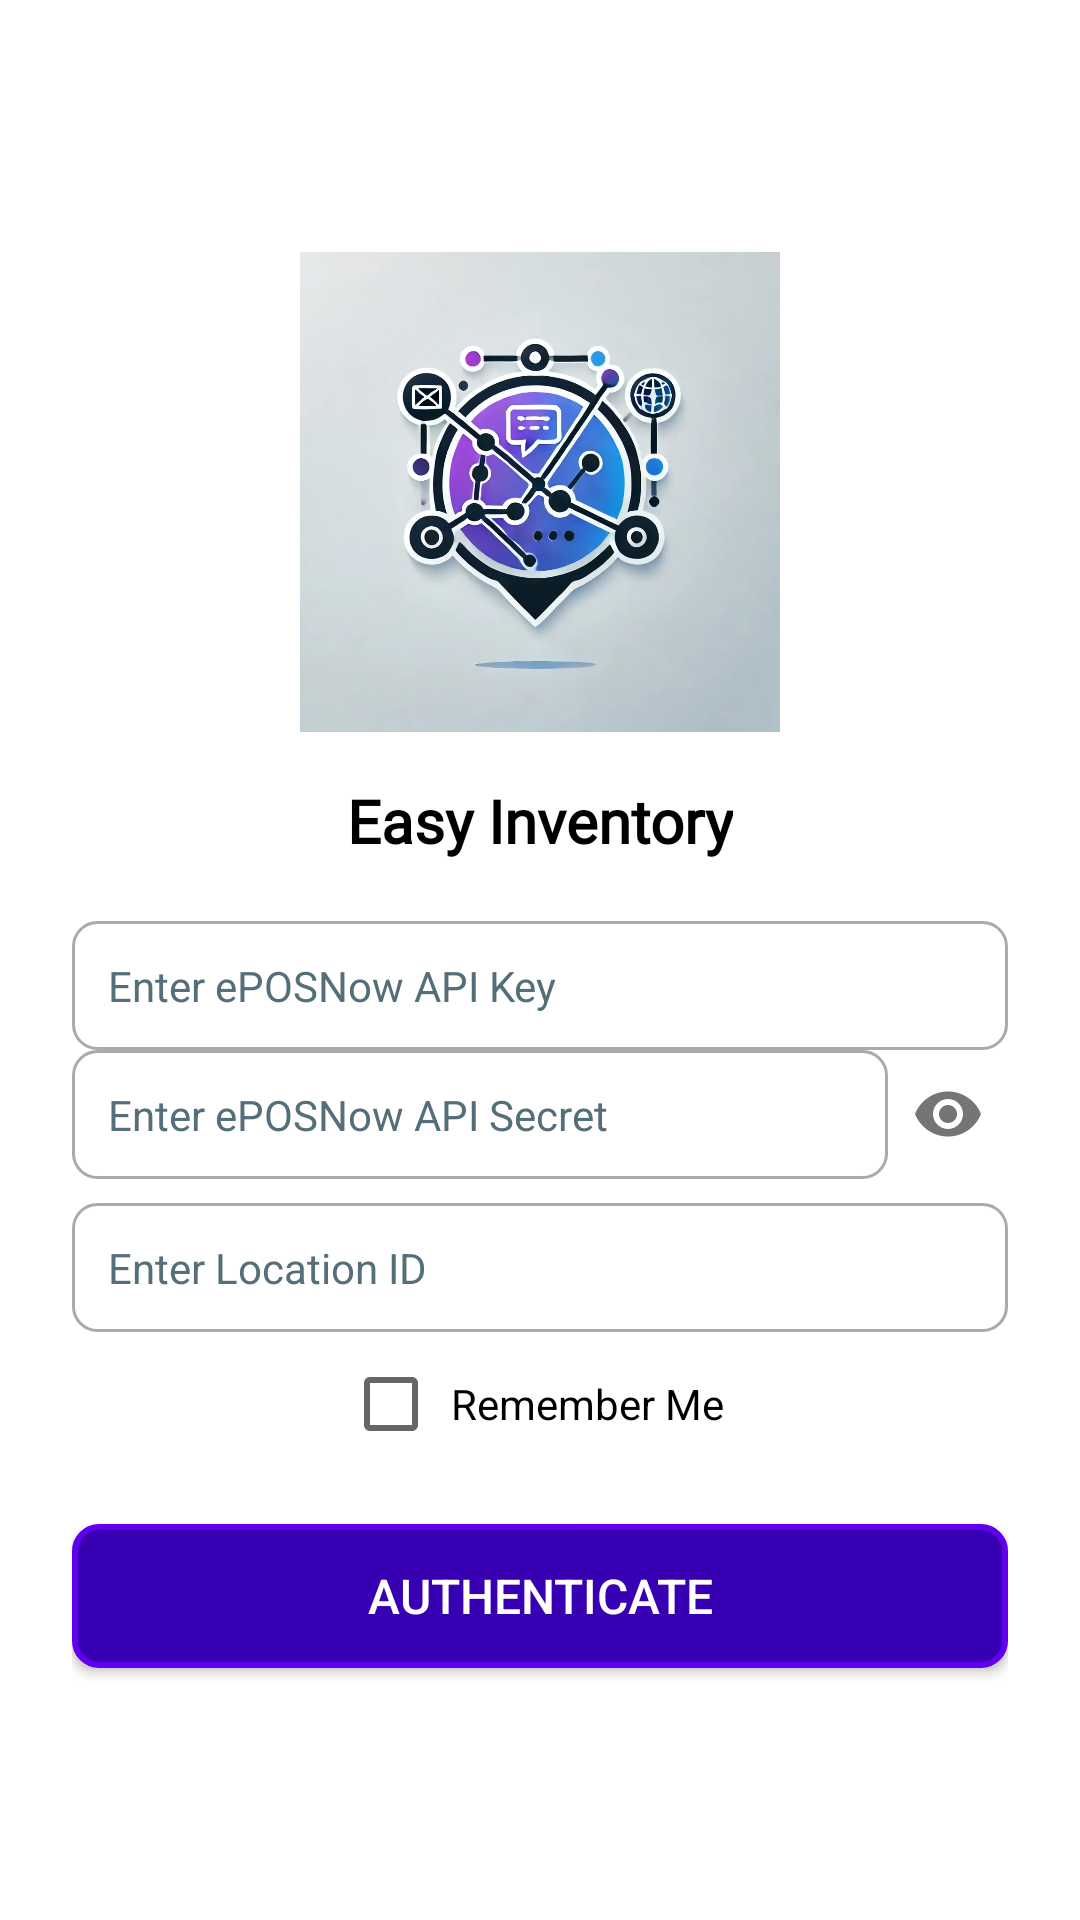

Icon bounding boxes for this 1080px×1920px phone screenshot, format {"left": x1, "top": y1, "right": x2, "bottom": y2}:
eye: {"left": 915, "top": 1091, "right": 981, "bottom": 1137}
